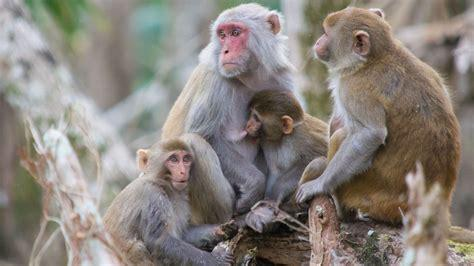monkey: (296, 7, 459, 223), (162, 4, 295, 215), (101, 138, 237, 266), (246, 90, 331, 208)
